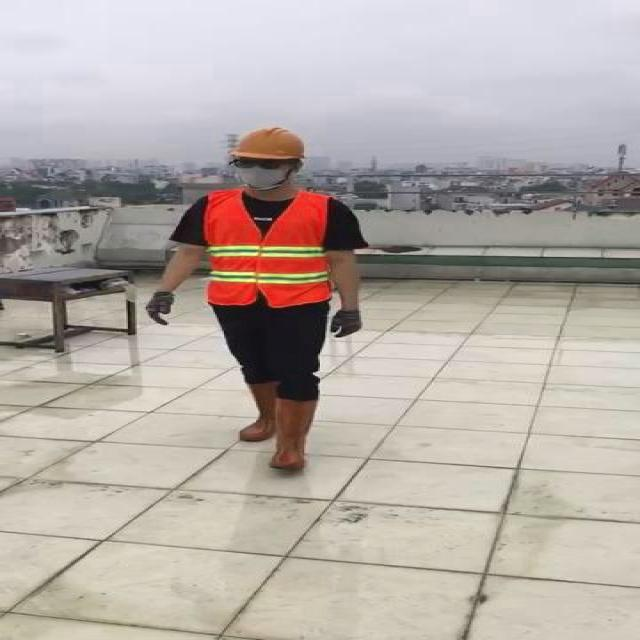boots: (265, 399, 322, 471), (235, 382, 279, 442)
face_mask: (234, 155, 287, 188)
glasses: (231, 155, 292, 171)
hand_glove: (144, 290, 176, 326), (329, 310, 364, 336)
head_helmet: (226, 124, 309, 162)
person: (132, 117, 378, 480)
vest: (201, 186, 331, 306)
